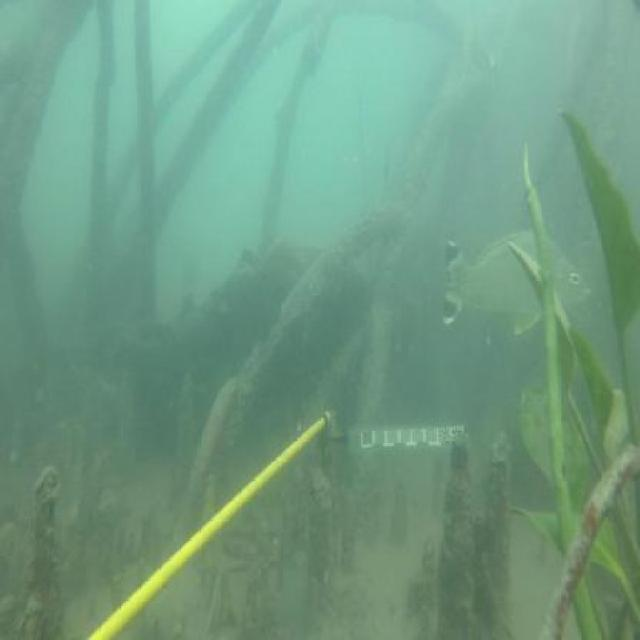Amniataba_caudivittatus: (440, 226, 598, 342)
